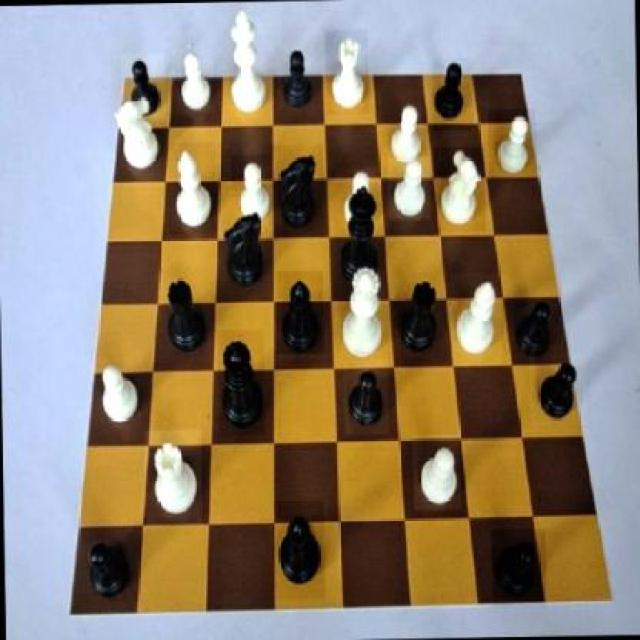bishop: (274, 500, 324, 600), (277, 270, 325, 354)
black-bishop: (334, 182, 388, 288)
black-king: (270, 144, 324, 238), (218, 198, 271, 291)
black-knight: (80, 523, 134, 610), (491, 528, 547, 607), (529, 354, 586, 426), (343, 358, 389, 434), (508, 296, 560, 362), (432, 57, 473, 130), (120, 54, 165, 120), (276, 43, 316, 116)
black-pawn: (217, 330, 266, 438)
black-queen: (392, 272, 446, 362), (160, 268, 208, 358)
black-rook: (451, 274, 502, 367), (168, 141, 218, 234)
white-bishop: (220, 5, 271, 122)
white-king: (110, 91, 166, 180), (432, 146, 486, 232)
white-knight: (94, 354, 144, 431), (412, 435, 460, 511), (488, 108, 537, 180), (384, 100, 428, 169), (231, 154, 274, 224), (335, 168, 380, 234), (388, 157, 430, 220), (172, 48, 213, 112)
white-pawn: (336, 258, 388, 366)
white-queen: (144, 429, 202, 526), (324, 31, 368, 115)
